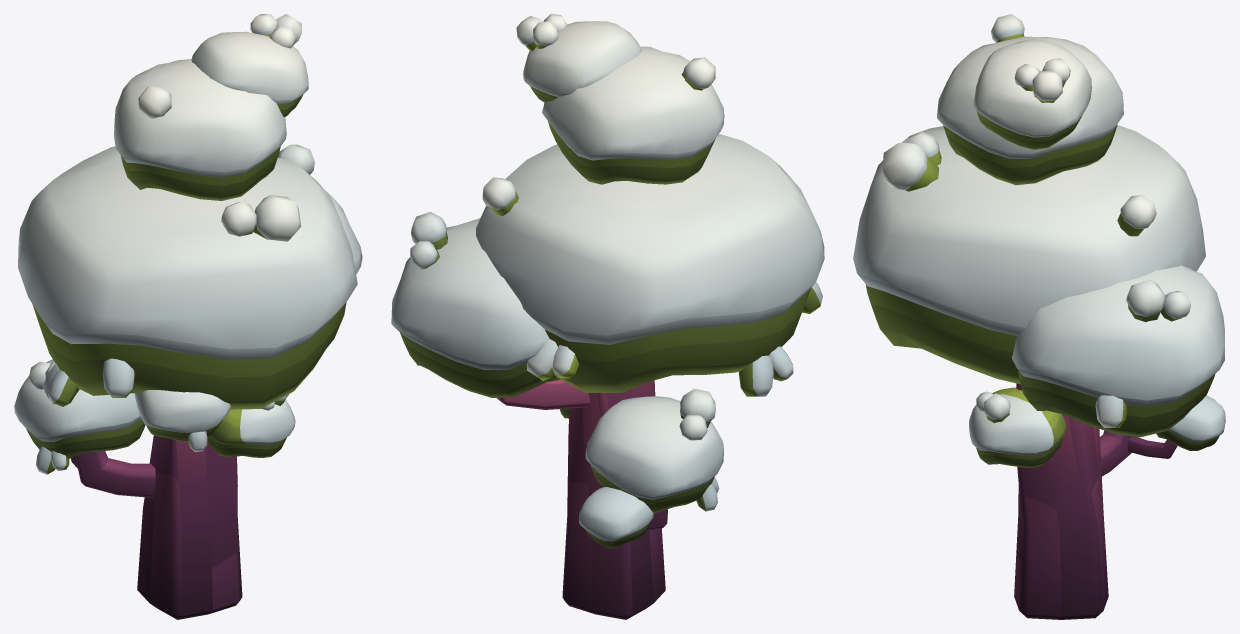
The model's file is grassland_tree_col1_1_snow.fbx.
3 renders of one model, left to right at view 1: azimuth 30°, elevation 25°; view 2: azimuth 150°, elevation 25°; view 3: azimuth 270°, elevation 25°, orthographic. The views are drawn at different scales.
Parts seen in each view (by area): view 1: grassland_tree_col1_1_snow; view 2: grassland_tree_col1_1_snow; view 3: grassland_tree_col1_1_snow.
Boxes of the visible parts, x1,y1,x2,y2 form: grassland_tree_col1_1_snow: (14,14,362,619); grassland_tree_col1_1_snow: (391,14,824,619); grassland_tree_col1_1_snow: (853,14,1225,619).
Size of the model in its own units: 961 by 1490 by 868.
Materials: 1 (1 with a texture image).
